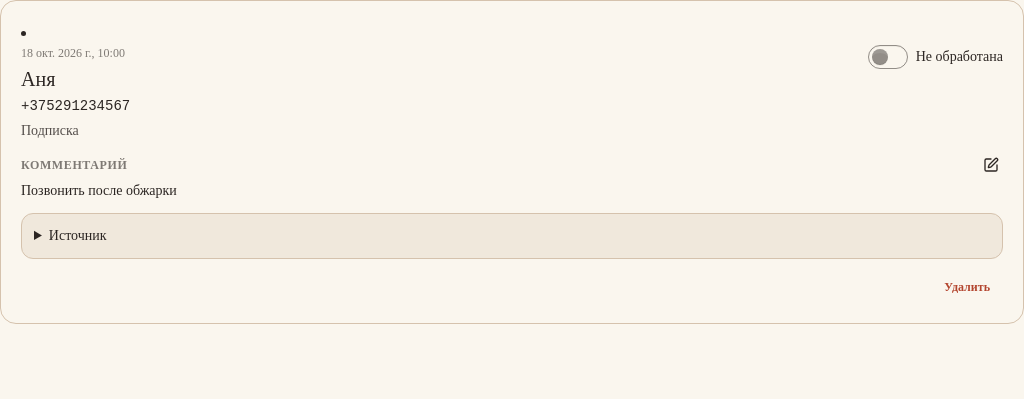
LeadCard › reverts the toggle and shows an error when persistence fails
This screenshot has width=1024, height=399.
Click the checkbox.
click(888, 57)  # box [868, 45, 908, 69]
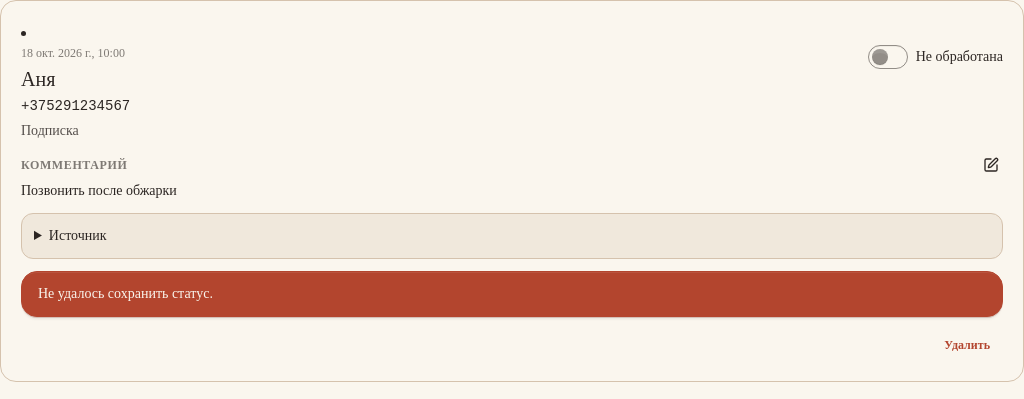
Check: the message reads "Не удалось сохранить статус.", box [38, 286, 213, 301]
